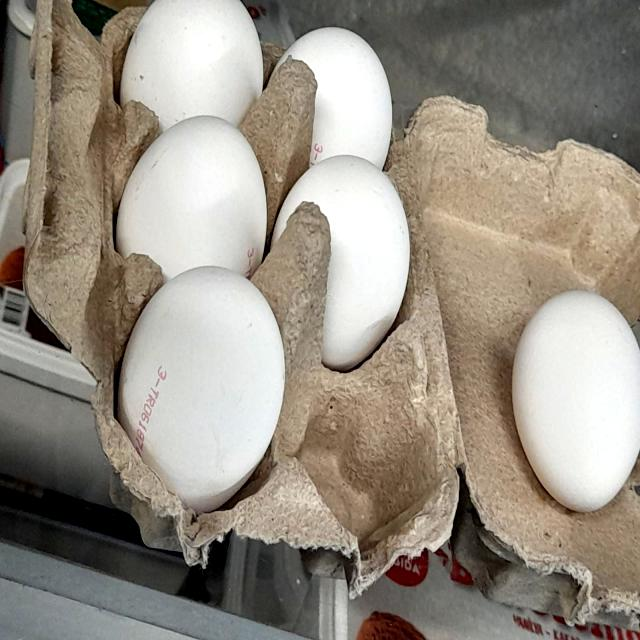egg: (118, 260, 287, 526), (499, 275, 640, 520), (276, 151, 426, 375), (111, 111, 277, 272)
